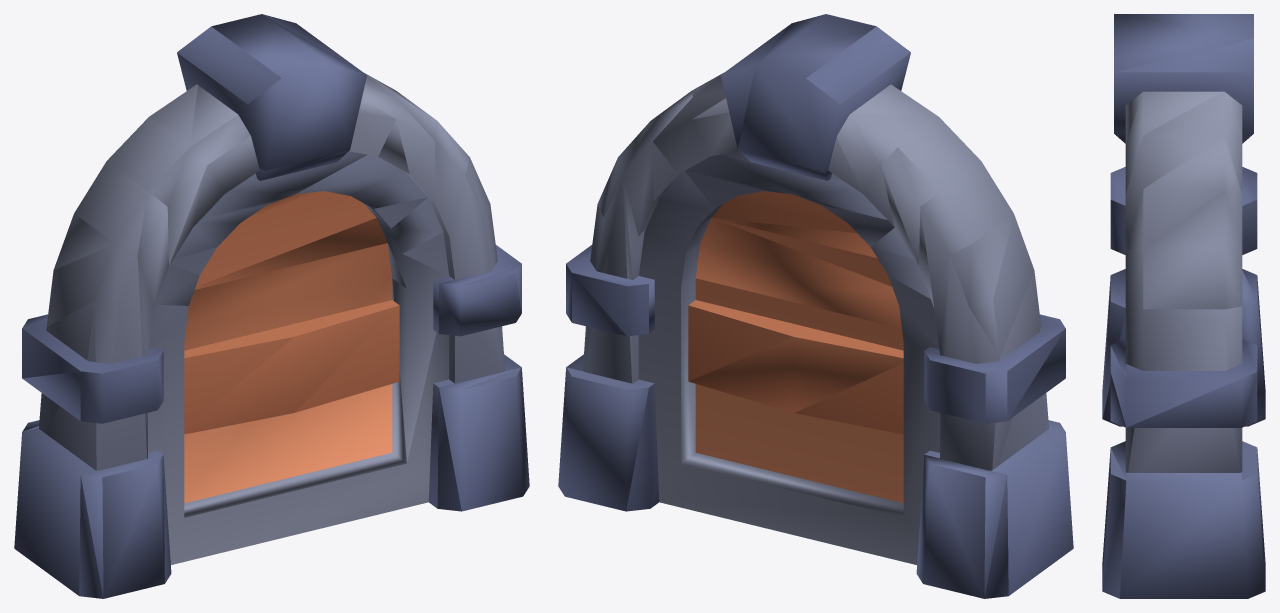
Rendered from gate-door_lev2.glb.
The picture shows the model from 3 angles, left to right: view 1: azimuth 30°, elevation 25°; view 2: azimuth 150°, elevation 25°; view 3: azimuth 270°, elevation 25°; orthographic projection.
Visible parts, largest first — view 1: gate-door_lev2; view 2: gate-door_lev2; view 3: gate-door_lev2.
Part boxes in pixels (box(x1,y1,x2,y2)): gate-door_lev2: box(14, 14, 529, 598); gate-door_lev2: box(558, 14, 1073, 598); gate-door_lev2: box(1102, 14, 1265, 598).
Size of the model in its own units: 4.4 by 4.4 by 1.4.
1 material, 1 textured.
